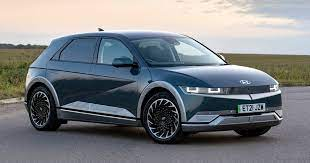Honda Ioniq: (20, 24, 294, 146)
